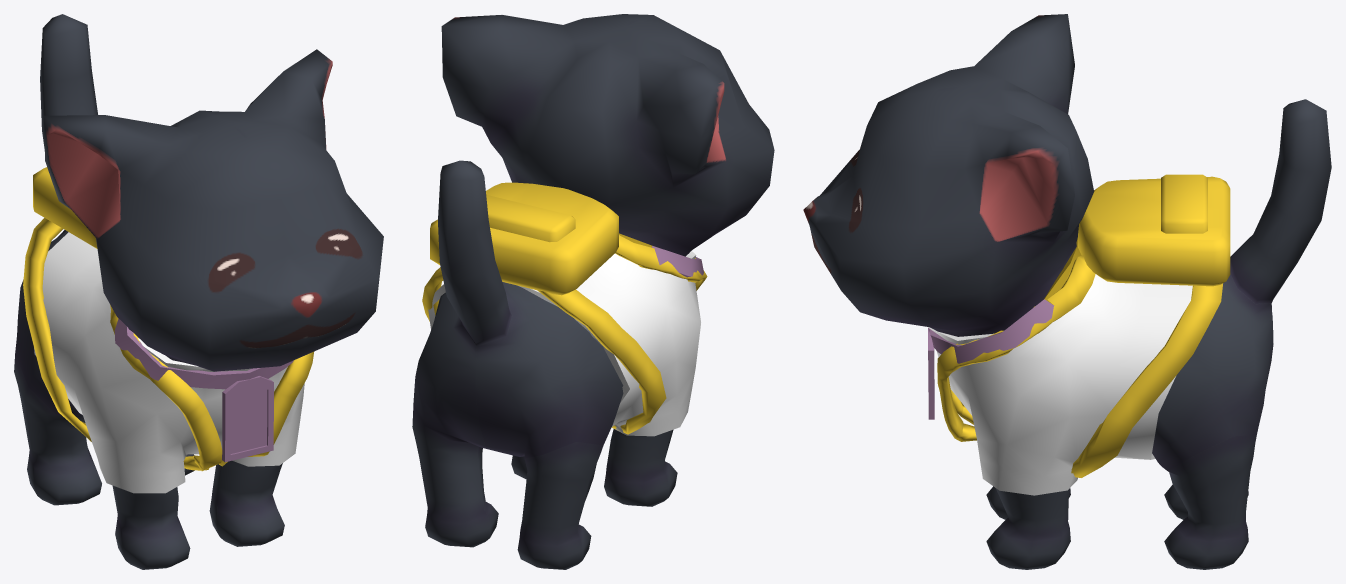
Rendered from Student Cat03_03.fbx.
3 views of the same model, side by side, from view 1: azimuth 30°, elevation 25°; view 2: azimuth 150°, elevation 25°; view 3: azimuth 270°, elevation 25° (orthographic). The views are drawn at different scales.
Visible parts, largest first — view 1: Cat_Base002, tshirt, Backpack, id; view 2: Cat_Base002, Backpack, tshirt, id; view 3: Cat_Base002, tshirt, Backpack, id.
Boxes of the visible parts, <box> form: Cat_Base002: <box>14,14,383,569</box>; tshirt: <box>34,232,304,493</box>; Backpack: <box>23,167,313,471</box>; id: <box>114,318,293,462</box>; Cat_Base002: <box>412,14,774,569</box>; Backpack: <box>422,182,707,434</box>; tshirt: <box>428,251,700,436</box>; id: <box>619,233,703,277</box>; Cat_Base002: <box>803,14,1331,569</box>; tshirt: <box>928,274,1192,495</box>; Backpack: <box>937,174,1230,477</box>; id: <box>928,239,1081,419</box>.
Size of the model in its own units: 1.75 by 2.83 by 2.68.
5 materials, 1 textured.
